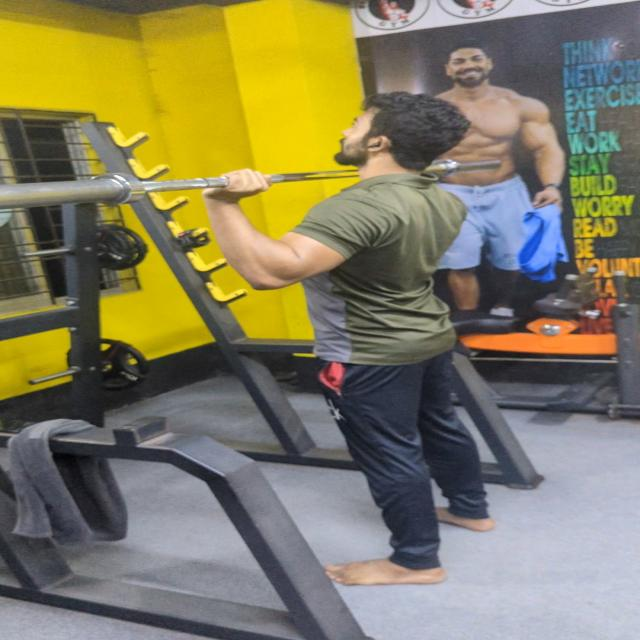Normal_OverheadPress: (170, 75, 571, 640)
